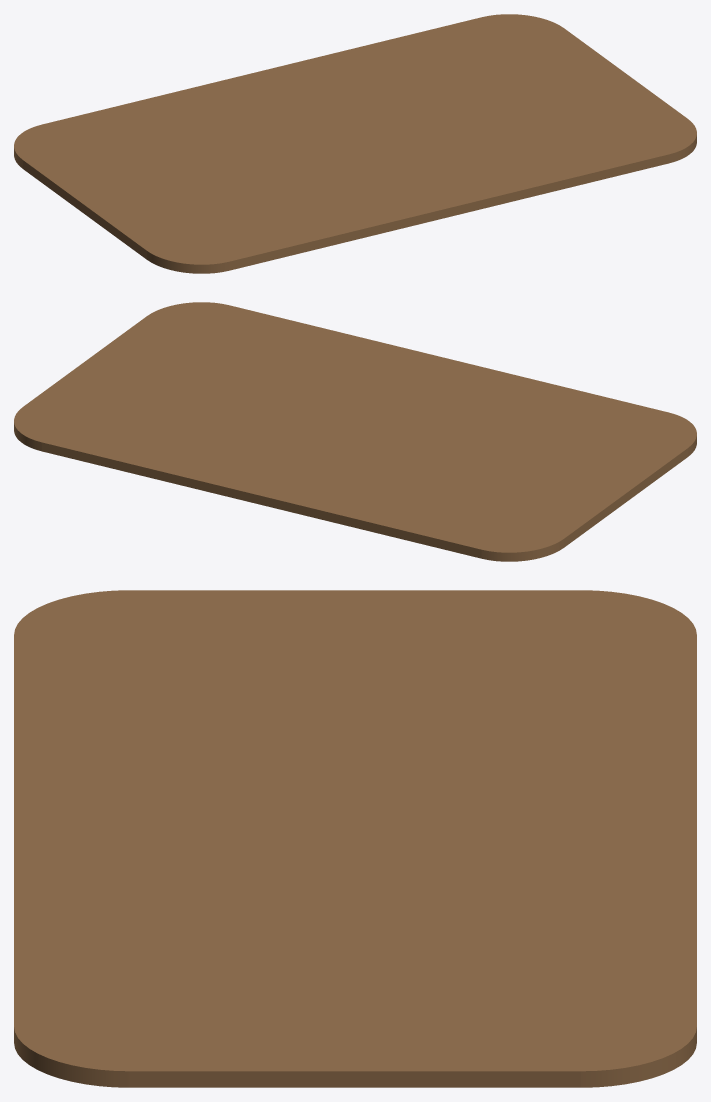
File: rug-doormat.glb
The picture shows the model from 3 angles, top to bottom: view 1: azimuth 30°, elevation 25°; view 2: azimuth 150°, elevation 25°; view 3: azimuth 270°, elevation 25°; orthographic projection. The views are drawn at different scales.
Visible parts, largest first — view 1: rug-doormat; view 2: rug-doormat; view 3: rug-doormat.
Part boxes in pixels (x1,y1,x2,y2): rug-doormat: [14, 14, 696, 273]; rug-doormat: [14, 302, 696, 561]; rug-doormat: [14, 590, 696, 1087].
Bounding box in the file's own units: 0.75 × 0.012 × 0.45.
